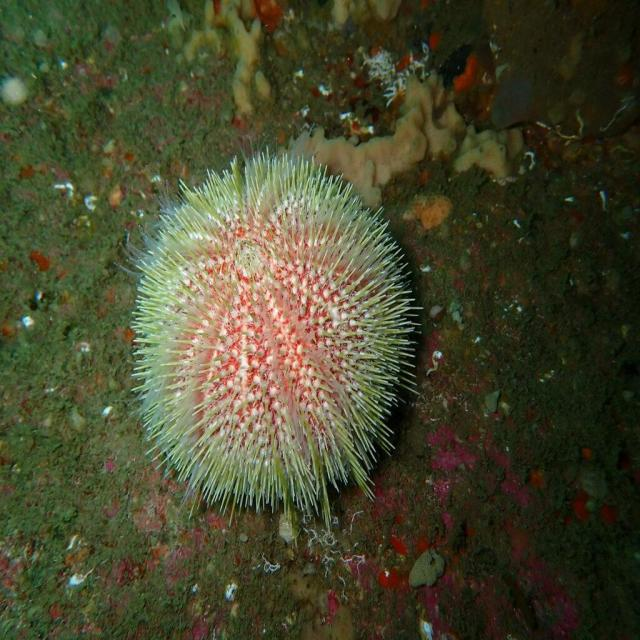Deniz Kestanesi: (114, 120, 425, 550)
